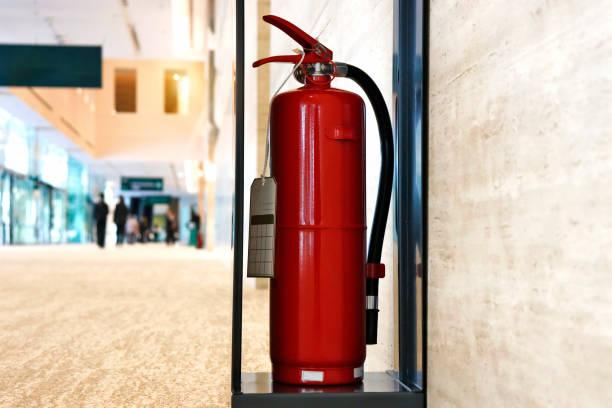floor-kept: (236, 0, 437, 401)
